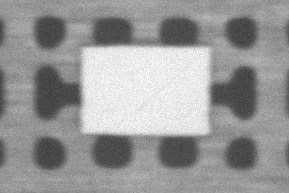DIE_CRACK: (201, 41, 288, 76)
